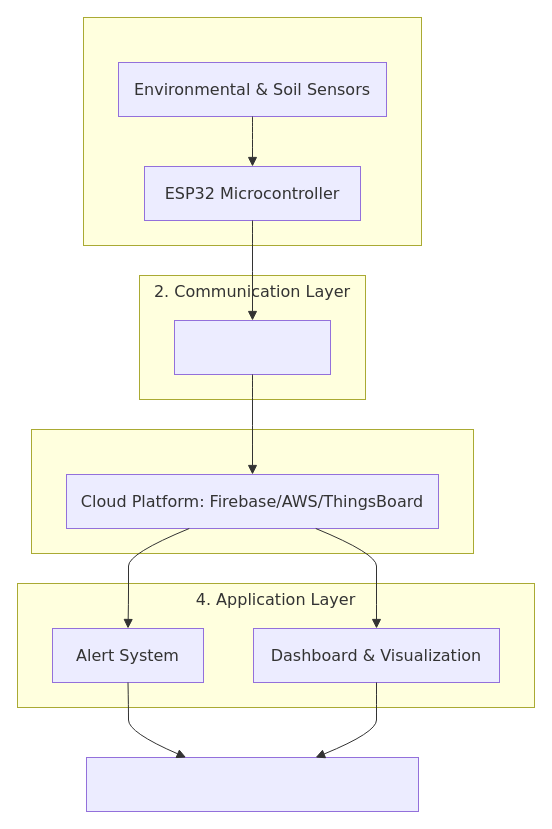
This 552x829 diagram has some shape labels left out. The shapes that lost their labels are listed below. From the top down, each one's box as (x1, y1, x2, y2) in pixels, then its label:
(82, 16, 422, 246): 1. Edge Layer
(174, 320, 330, 374): Wi-Fi / MQTT
(30, 428, 474, 554): 3. Cloud Layer
(86, 756, 418, 812): Decision Support & Farm Management
